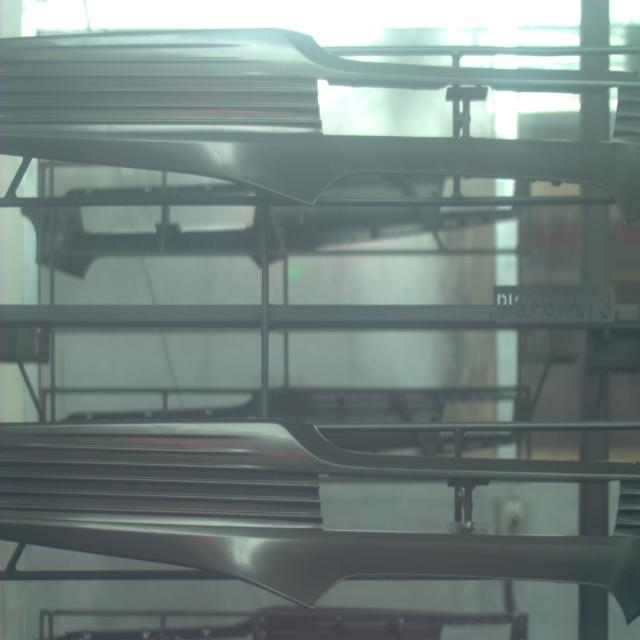Non_primered: (1, 418, 640, 616), (2, 30, 640, 205)
